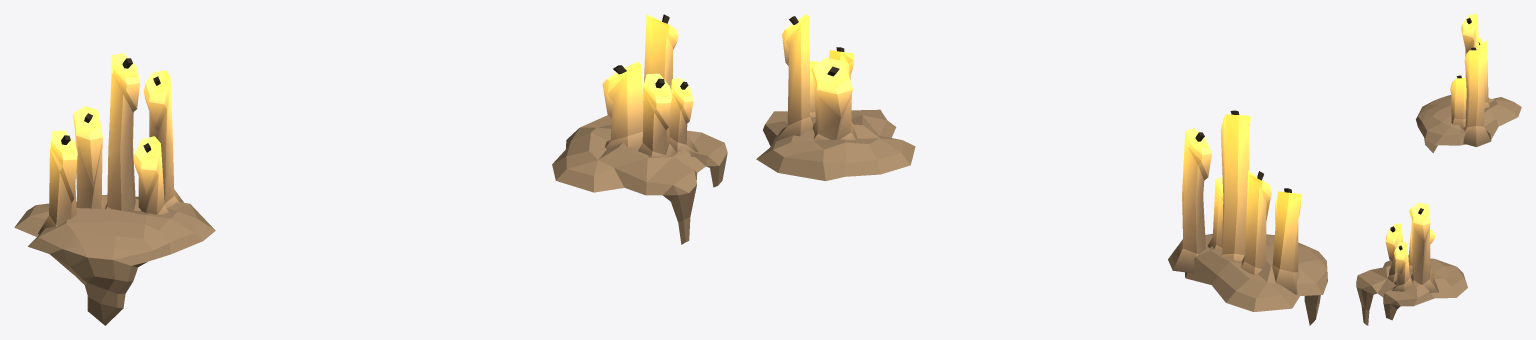
Rendered from crypt_candles_b.gltf.
3 renders of one model, left to right at view 1: azimuth 30°, elevation 25°; view 2: azimuth 150°, elevation 25°; view 3: azimuth 270°, elevation 25°, orthographic. The views are drawn at different scales.
Parts seen in each view (by area): view 1: crypt_candles_b; view 2: crypt_candles_b; view 3: crypt_candles_b.
Part boxes in pixels (x1,y1,x2,y2): crypt_candles_b: (14, 14, 727, 325); crypt_candles_b: (756, 14, 1327, 325); crypt_candles_b: (1356, 14, 1521, 325).
Size of the model in its own units: 1.47 by 0.5415 by 0.5144.
Materials: 1 (1 with a texture image).
